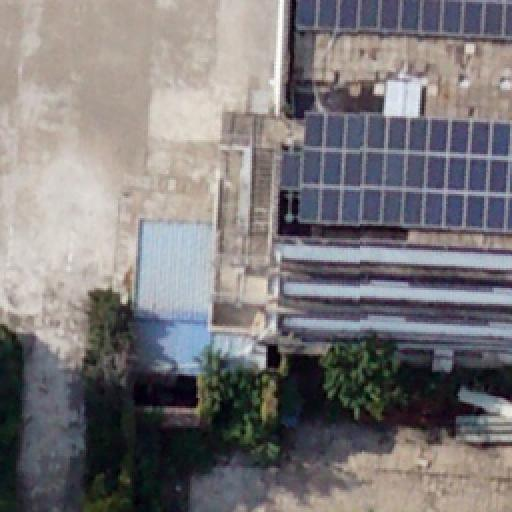solar-panel: (280, 115, 512, 237), (292, 0, 512, 40)
